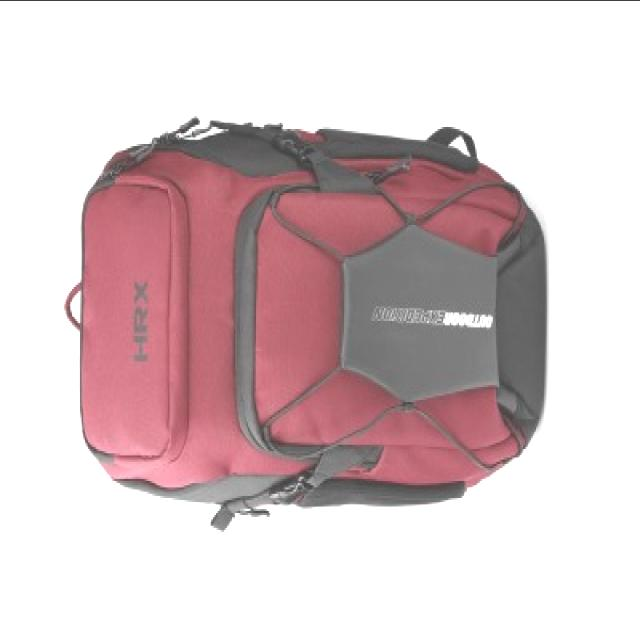backpack: (64, 119, 549, 533)
